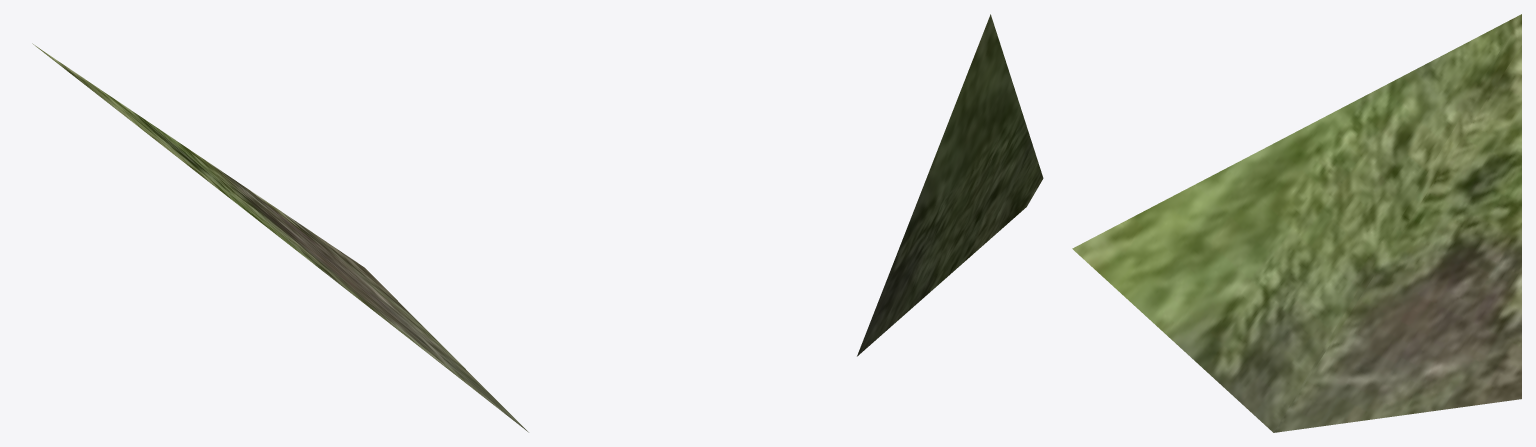
3 renders of one model, left to right at view 1: azimuth 30°, elevation 25°; view 2: azimuth 150°, elevation 25°; view 3: azimuth 270°, elevation 25°, orthographic. The views are drawn at different scales.
Bounding box in the file's own units: 1.89 × 1.98 × 2.78.
1 material, 1 textured.
